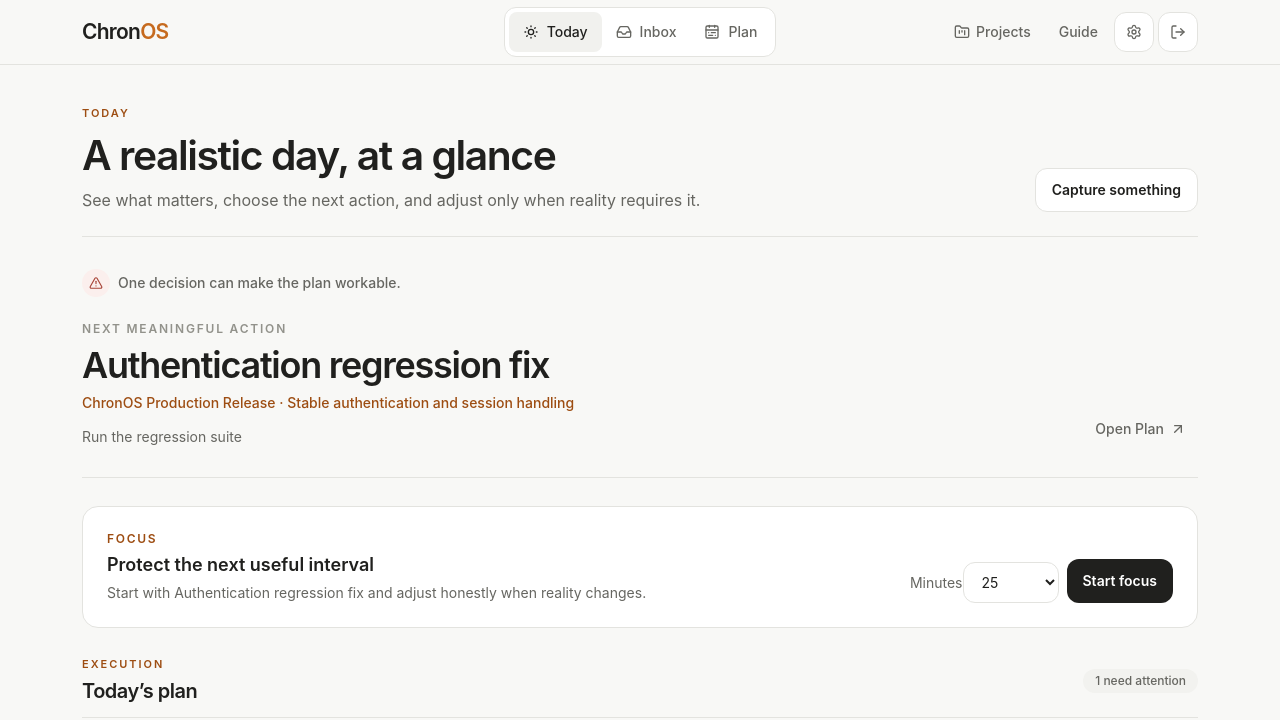
it: starts a contextual focus session from Today
This screenshot has width=1280, height=720.
Click the button "Start focus" at (1120, 582), box [1066,560,1173,604]
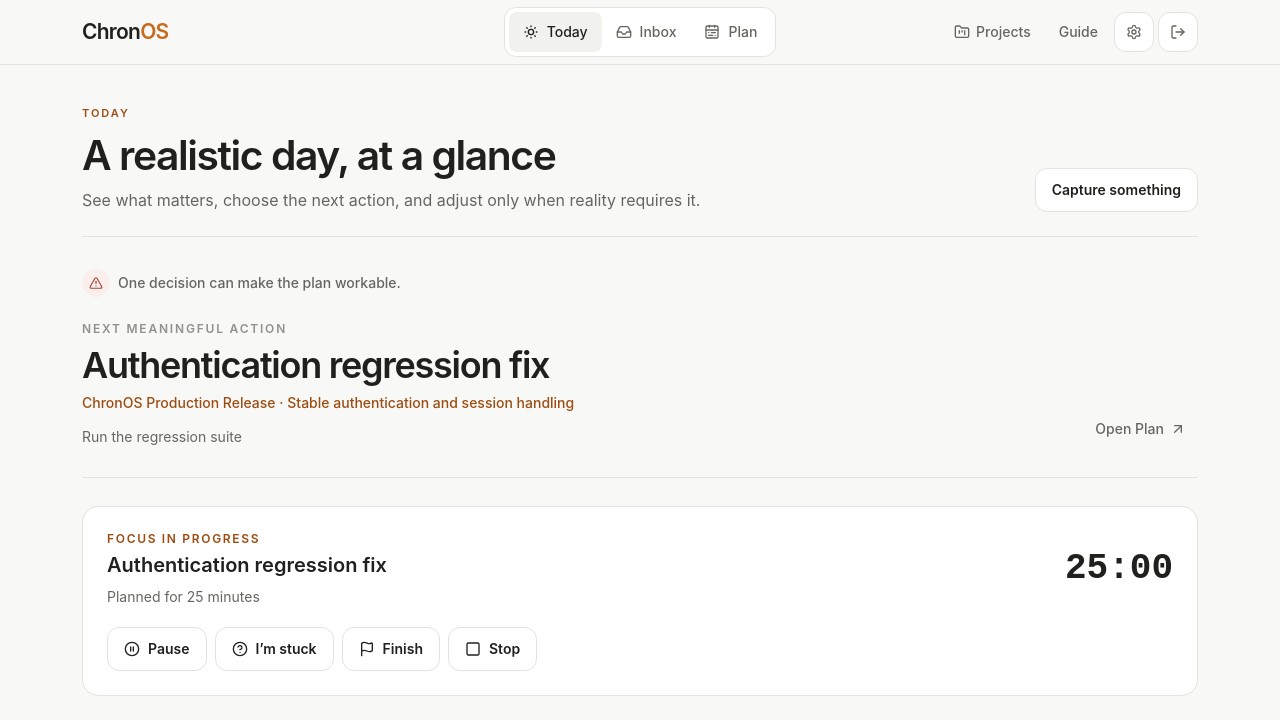
Result: the text "Focus in progress" is shown at [107,532,260,546]
Result: the text named "seconds remaining" is shown at [1065,550,1173,590]
